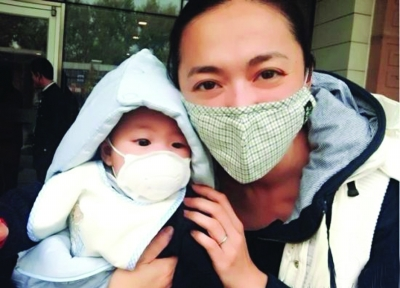face_mask: (184, 14, 310, 185), (116, 113, 191, 202)
